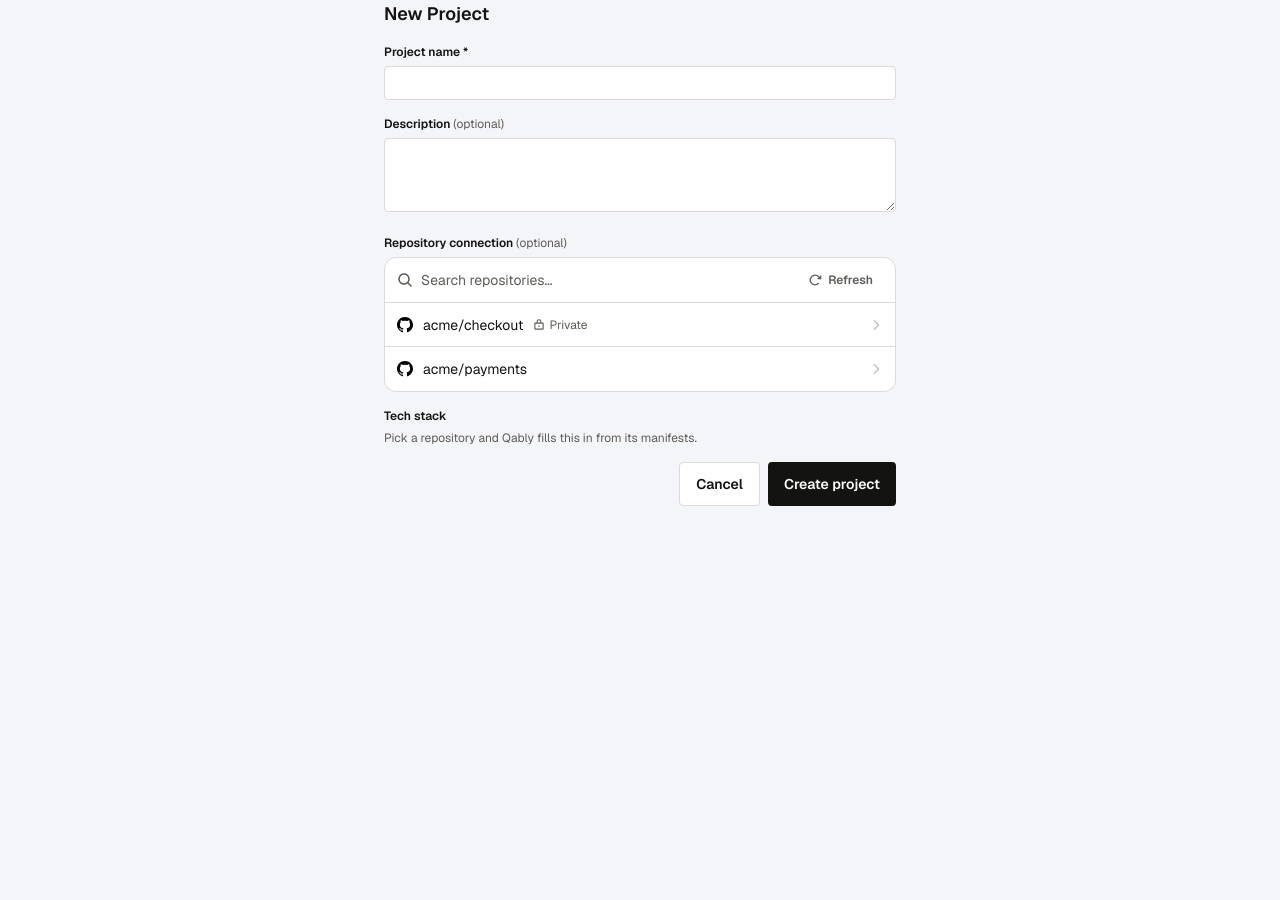
Test: NewProjectForm against the api › shows the webhook setup panel with the one-time secret before creating the project
Type "Checkout" into the field labelled "Project name *" at {"x": 640, "y": 83}, box x1=384 y1=66 x2=896 y2=100
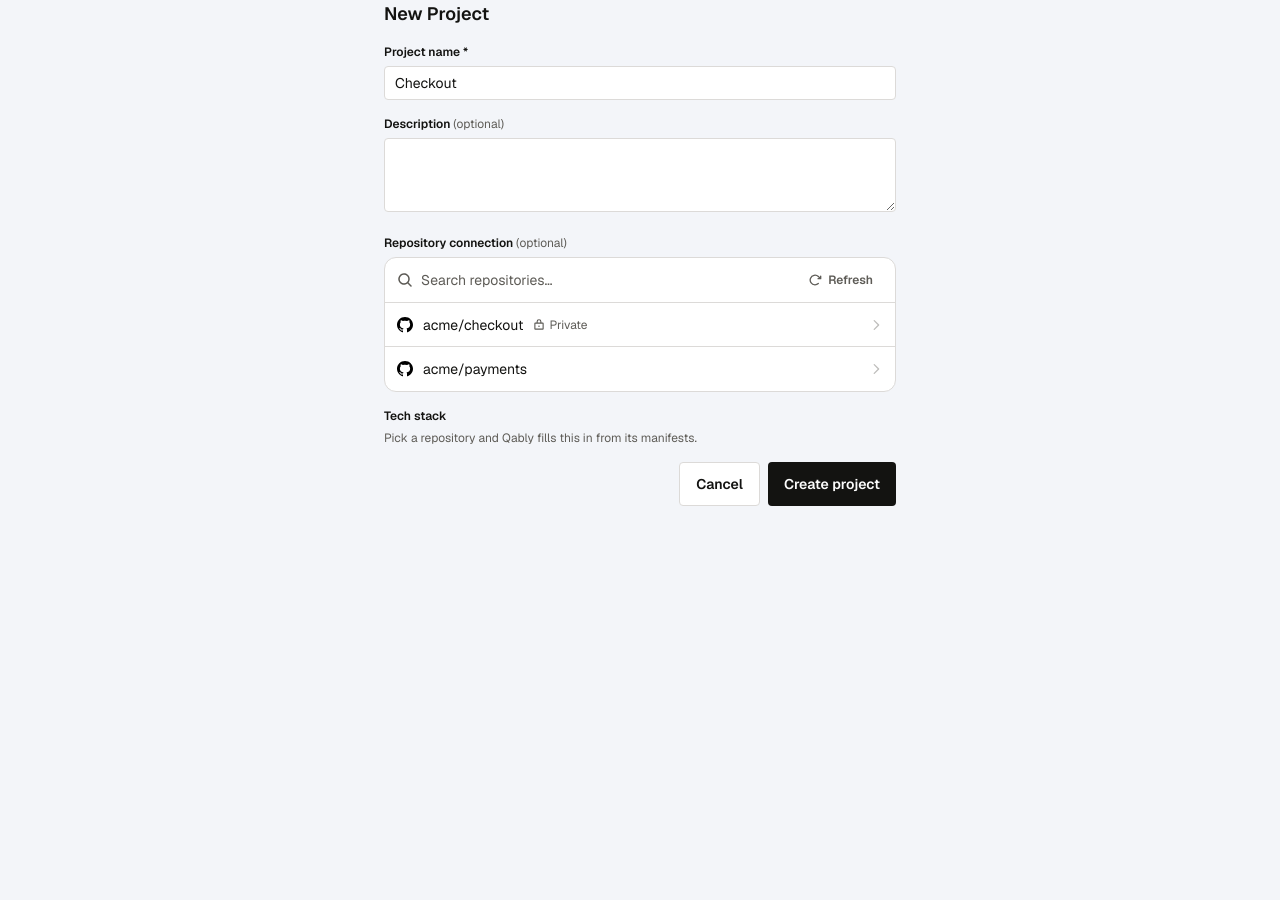
Click the radio button labelled "acme/checkout Private" at {"x": 473, "y": 324}, box x1=385 y1=303 x2=895 y2=347
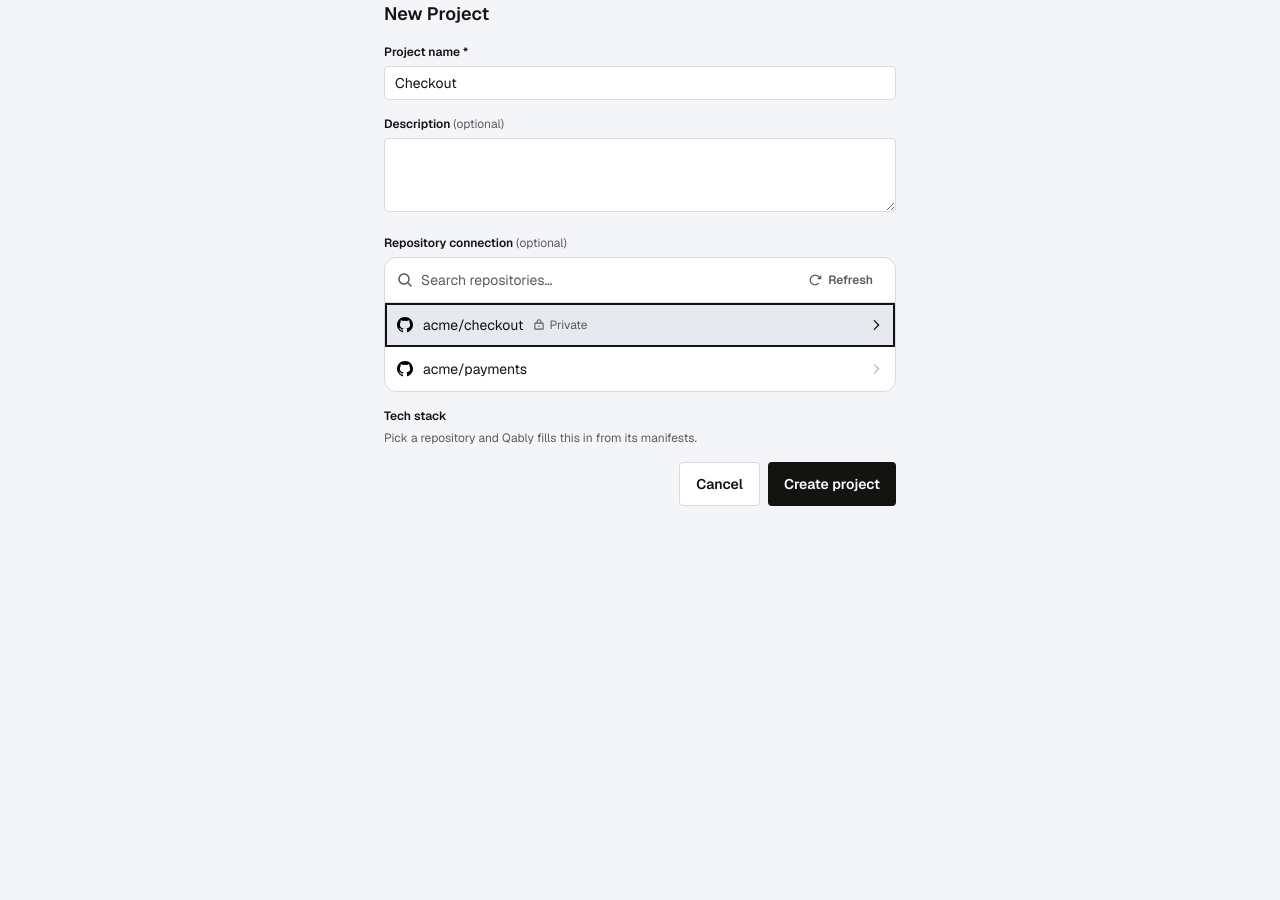
Click the button "Create project" at {"x": 832, "y": 484}, box x1=768 y1=462 x2=896 y2=506
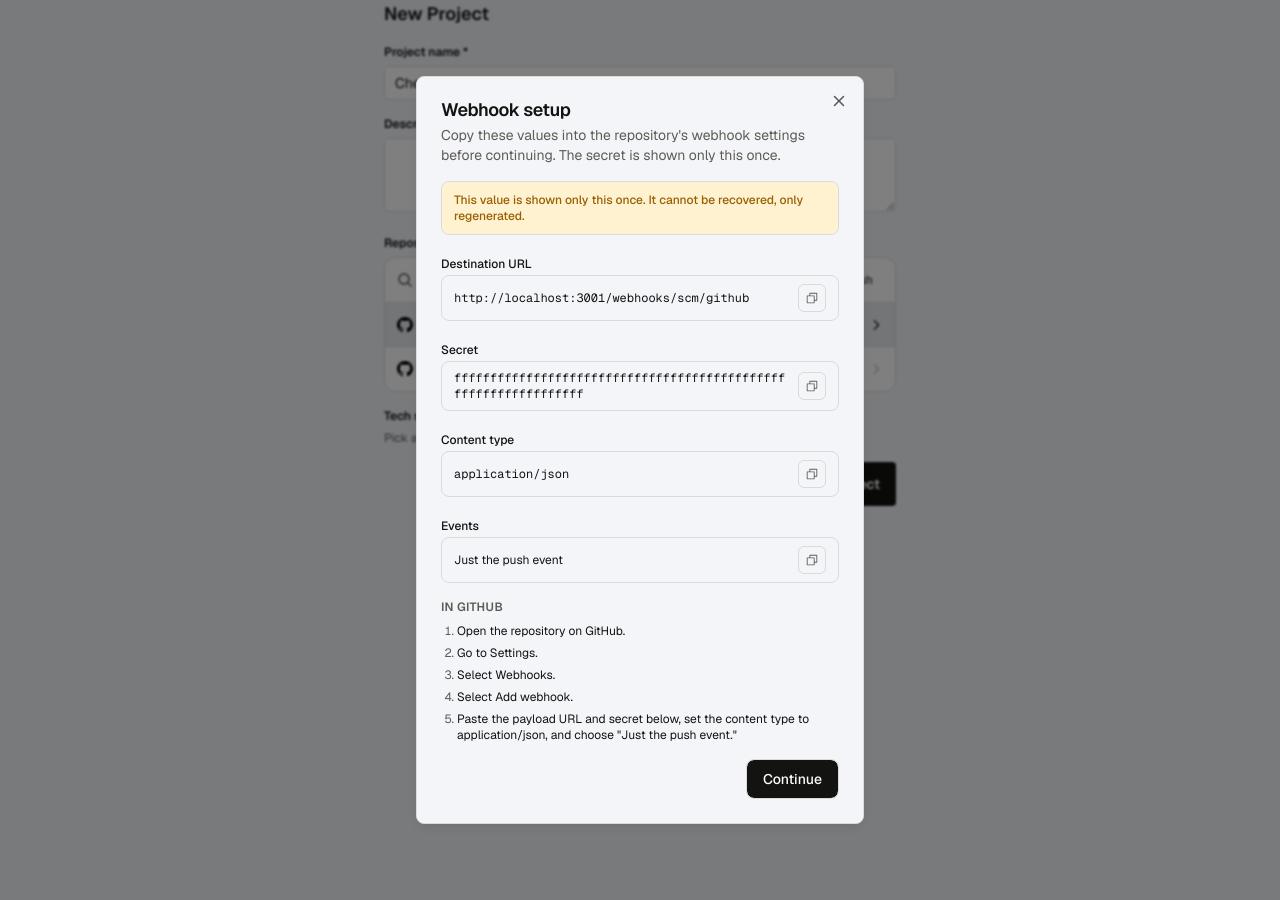
expect the text "http://localhost:3001/webhooks/scm/github" is shown: met, box x1=454 y1=290 x2=790 y2=306
